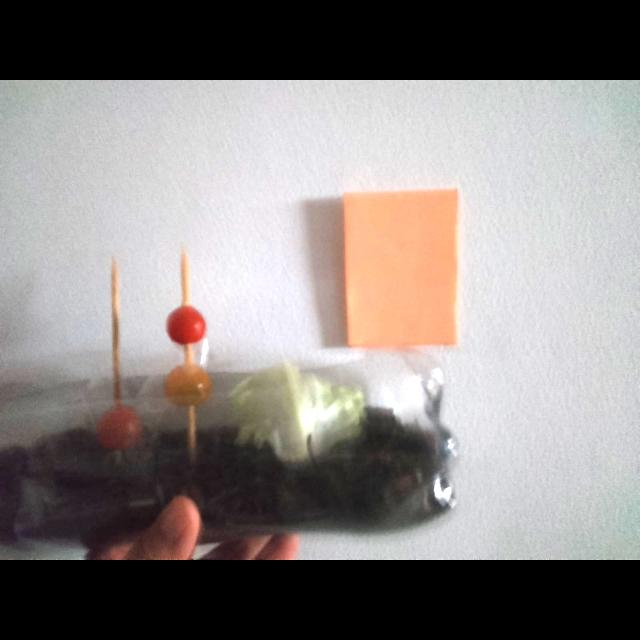card: (343, 190, 458, 347)
fruit_maturation: (164, 364, 211, 406)
fully_grown: (96, 405, 142, 450), (167, 305, 206, 345)
